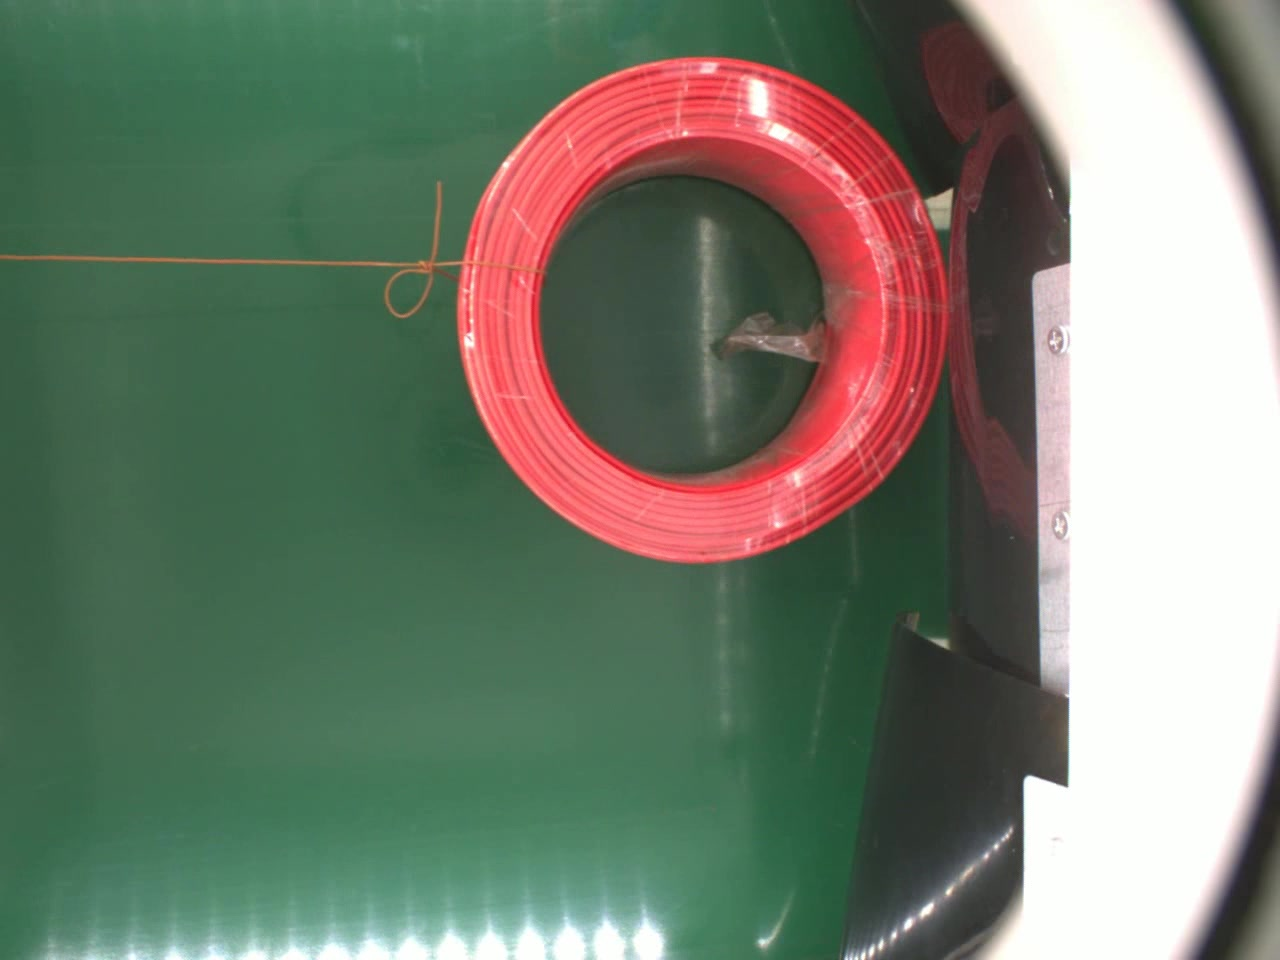red: (454, 53, 956, 572)
